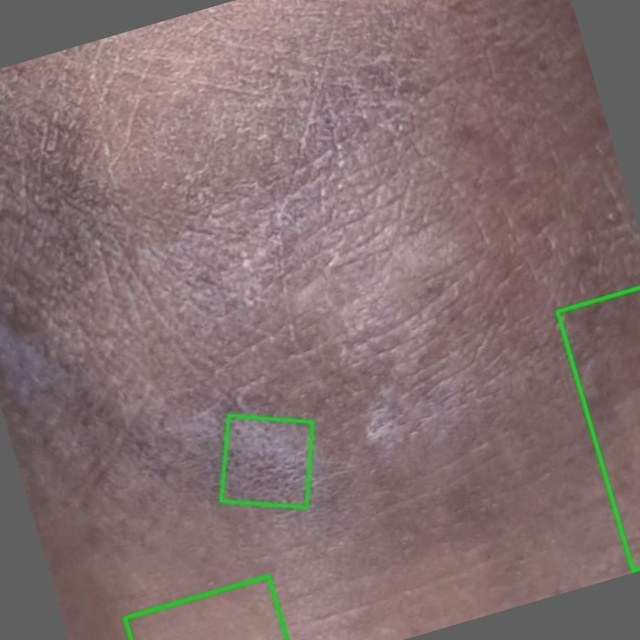Contact Dermatitis: (221, 416, 312, 507)
